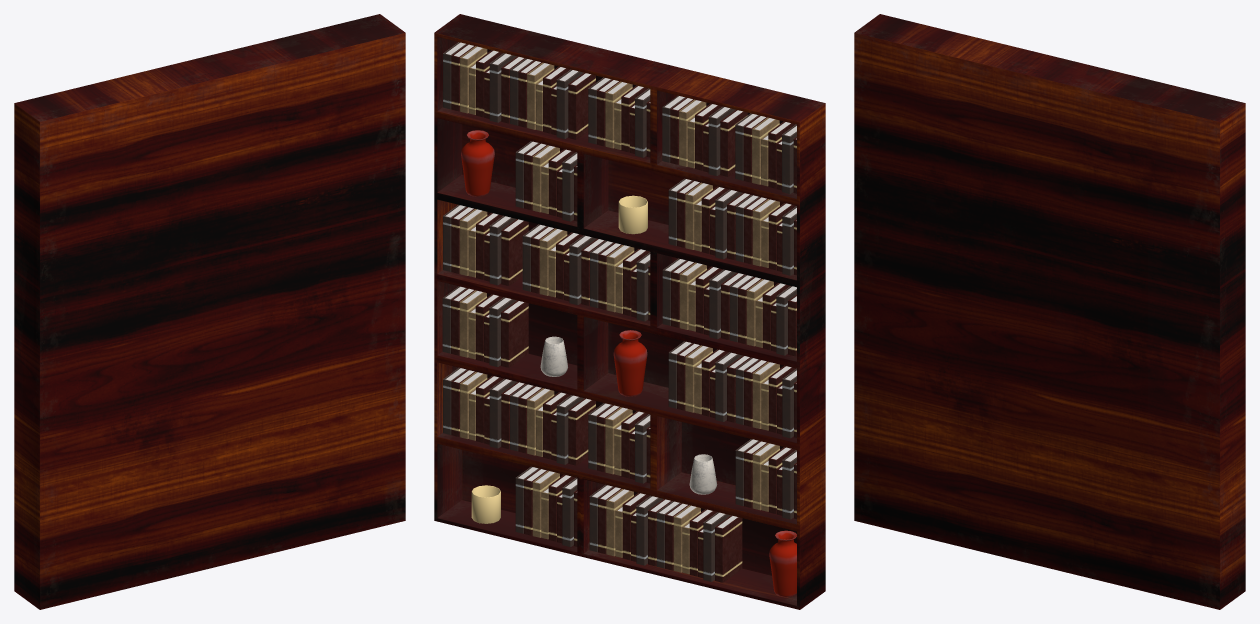
Rendered from shelf_with_props.fbx.
3 renders of one model, left to right at view 1: azimuth 30°, elevation 25°; view 2: azimuth 150°, elevation 25°; view 3: azimuth 330°, elevation 25°, orthographic.
Visible parts, largest first — view 1: Cube.005; view 2: Cube.006, Cube.005; view 3: Cube.005.
Boxes of the visible parts, x1,y1,x2,y2 form: Cube.005: (14, 14, 405, 609); Cube.006: (442, 42, 796, 597); Cube.005: (434, 14, 825, 609); Cube.005: (854, 14, 1245, 609).
Bounding box in the file's own units: 210 × 267 × 25.65.
